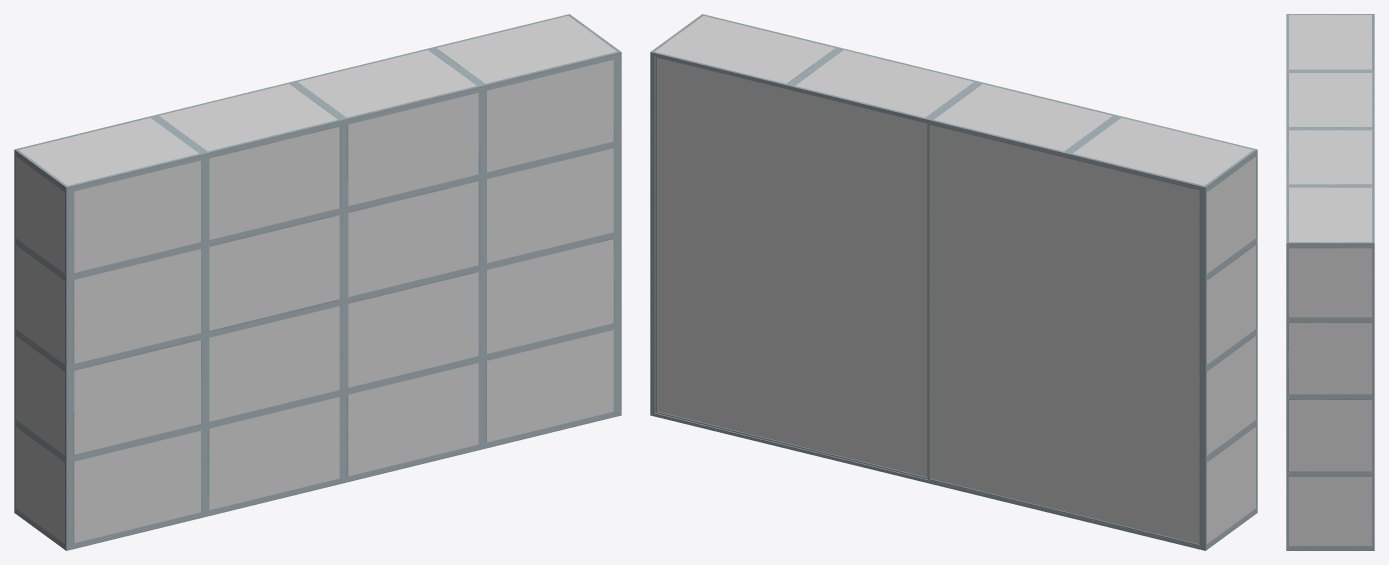
File: Storage 1.fbx
3 views of the same model, side by side, from view 1: azimuth 30°, elevation 25°; view 2: azimuth 150°, elevation 25°; view 3: azimuth 270°, elevation 25° (orthographic). The views are drawn at different scales.
Parts seen in each view (by area): view 1: storage.007; view 2: storage.009, storage.004, storage.007; view 3: storage.007.
Boxes of the visible parts, left/top/right/bottom form: storage.007: left=14, top=14, right=621, bottom=550; storage.009: left=928, top=123, right=1201, bottom=546; storage.004: left=655, top=56, right=927, bottom=479; storage.007: left=650, top=14, right=1257, bottom=550; storage.007: left=1286, top=14, right=1374, bottom=550.
Size of the model in its own units: 271 by 169 by 43.99.
Materials: 2 (1 with a texture image).
